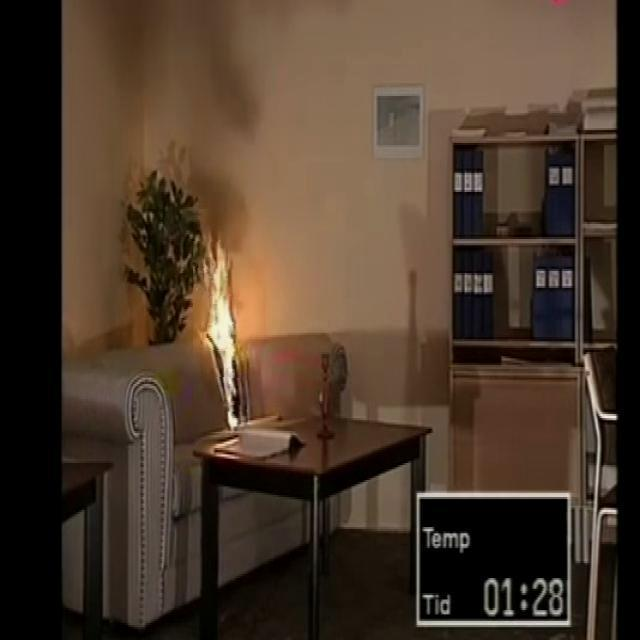fire: (176, 0, 266, 247)
smoke: (192, 227, 252, 433)
